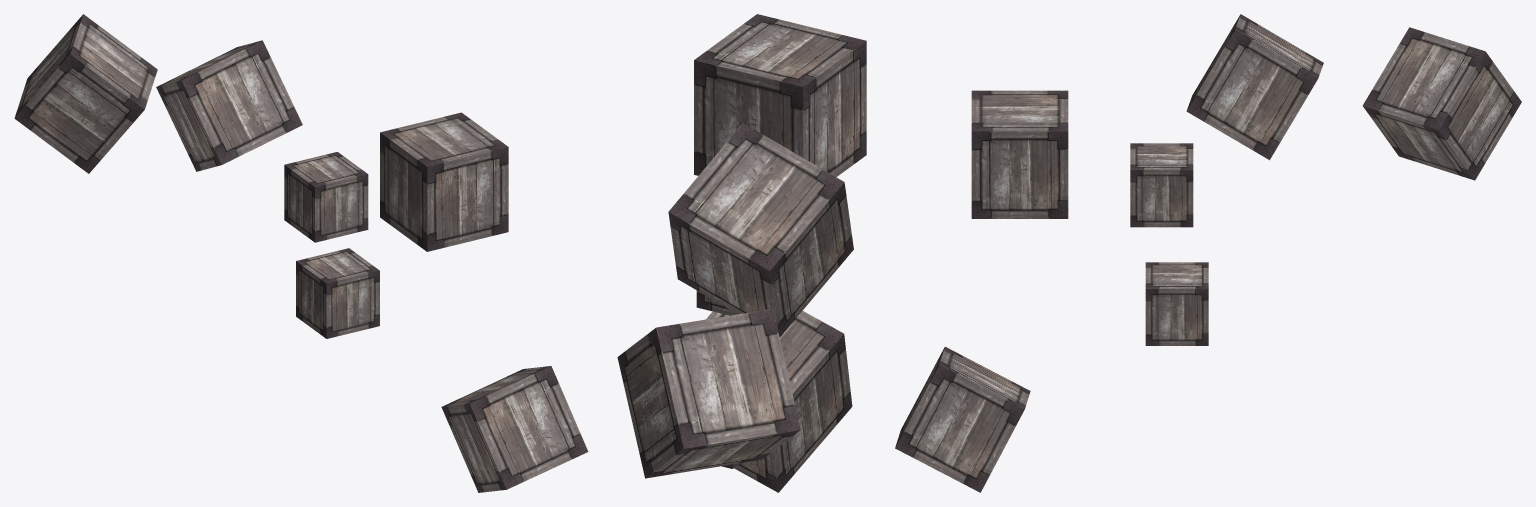
The model's file is box_simple.dae.
3 renders of one model, left to right at view 1: azimuth 30°, elevation 25°; view 2: azimuth 150°, elevation 25°; view 3: azimuth 270°, elevation 25°, orthographic. The views are drawn at different scales.
Visible parts, largest first — view 1: Cube_003, Cube_002, Cube_001, Cube_004, Cube_005, Cube; view 2: Cube_004, Cube_002, Cube_003, Cube_001, Cube_005; view 3: Cube_002, Cube_003, Cube_001, Cube_004, Cube_005, Cube.
Part boxes in pixels (x1,y1,x2,y2): Cube_003: [380, 112, 508, 251]; Cube_002: [14, 14, 157, 173]; Cube_001: [441, 366, 588, 492]; Cube_004: [156, 40, 302, 171]; Cube_005: [284, 152, 368, 242]; Cube: [296, 248, 379, 338]; Cube_004: [668, 123, 853, 337]; Cube_002: [617, 308, 800, 478]; Cube_003: [694, 14, 866, 176]; Cube_001: [706, 311, 852, 492]; Cube_005: [696, 290, 737, 315]; Cube_002: [1362, 27, 1521, 180]; Cube_003: [971, 90, 1068, 218]; Cube_001: [895, 346, 1030, 492]; Cube_004: [1186, 14, 1323, 160]; Cube_005: [1130, 143, 1193, 227]; Cube: [1145, 262, 1208, 345].
Size of the model in its own units: 3.92 by 6.49 by 4.54.
Materials: 1 (1 with a texture image).
